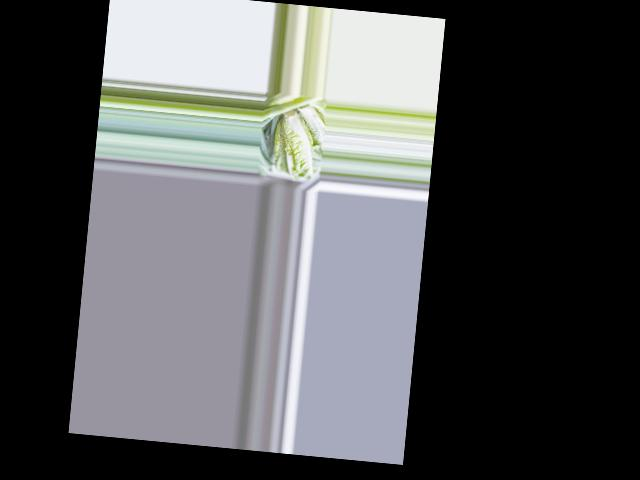lettuce: (269, 108, 319, 181)
